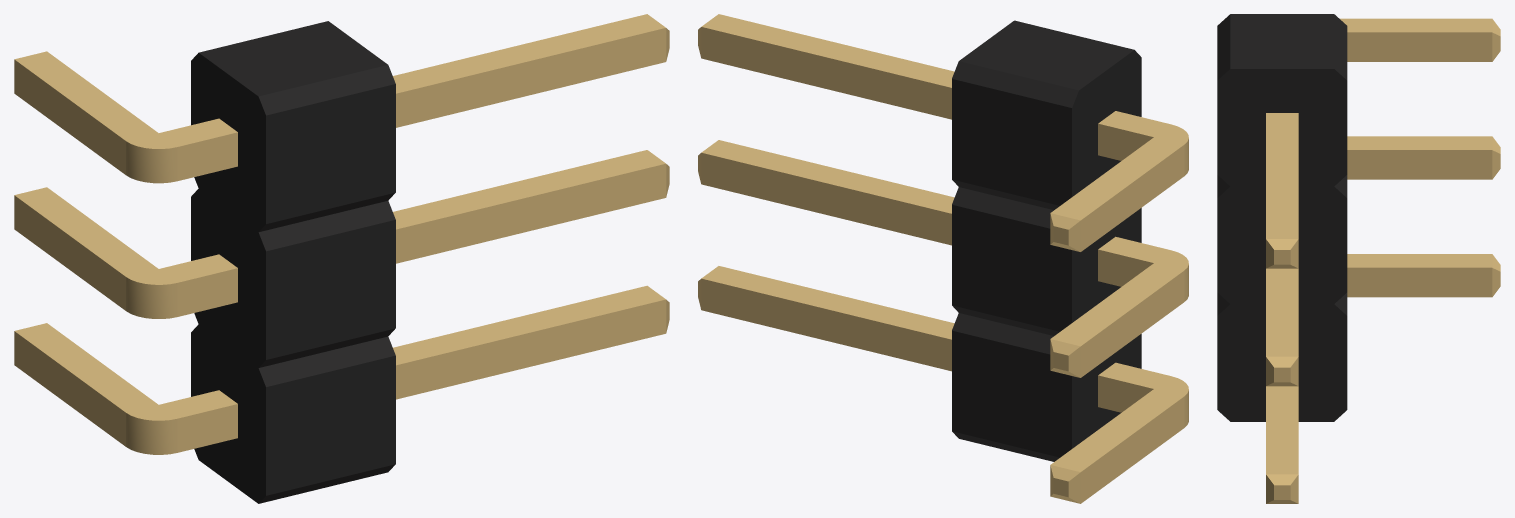
File: header-1x03-bent.glb
The picture shows the model from 3 angles, left to right: view 1: azimuth 30°, elevation 25°; view 2: azimuth 150°, elevation 25°; view 3: azimuth 270°, elevation 25°; orthographic projection. The views are drawn at different scales.
Parts seen in each view (by area): view 1: IC-BODY-EPOXY-04, PIN-02 (×4); view 2: PIN-02, IC-BODY-EPOXY-04; view 3: IC-BODY-EPOXY-04, PIN-02.
Part boxes in pixels (x1,y1,x2,y2): IC-BODY-EPOXY-04: (191,21,395,503); PIN-02 (×4): (14,14,669,454); PIN-02: (698,14,1188,503); IC-BODY-EPOXY-04: (952,20,1141,461); IC-BODY-EPOXY-04: (1217,14,1347,421); PIN-02: (1266,18,1500,503).
Bounding box in the file's own units: 10.36 × 7.62 × 5.54.
